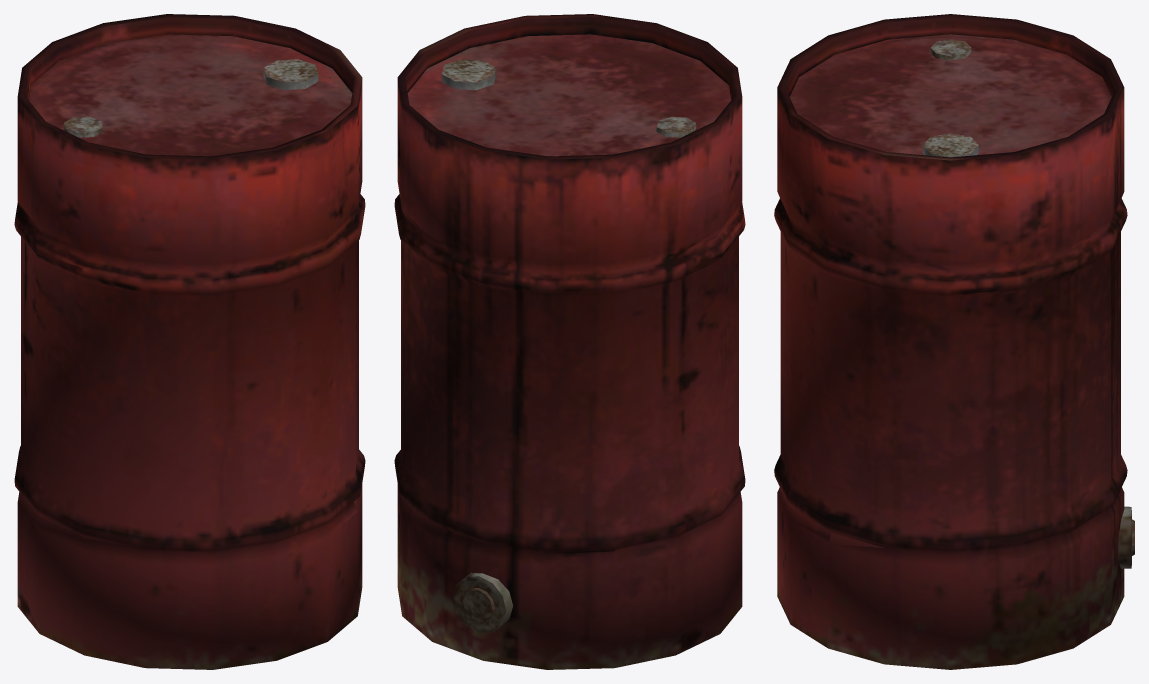
Rendered from Oil Barrel.obj.
3 views of the same model, side by side, from view 1: azimuth 30°, elevation 25°; view 2: azimuth 150°, elevation 25°; view 3: azimuth 270°, elevation 25° (orthographic).
Parts seen in each view (by area): view 1: Oil_Barrel; view 2: Oil_Barrel; view 3: Oil_Barrel.
Boxes of the visible parts, bbox=[...] form: Oil_Barrel: bbox=[14, 14, 365, 669]; Oil_Barrel: bbox=[394, 14, 745, 669]; Oil_Barrel: bbox=[774, 14, 1134, 669].
Bounding box in the file's own units: 46.12 × 73.33 × 47.06.
1 material, 1 textured.
